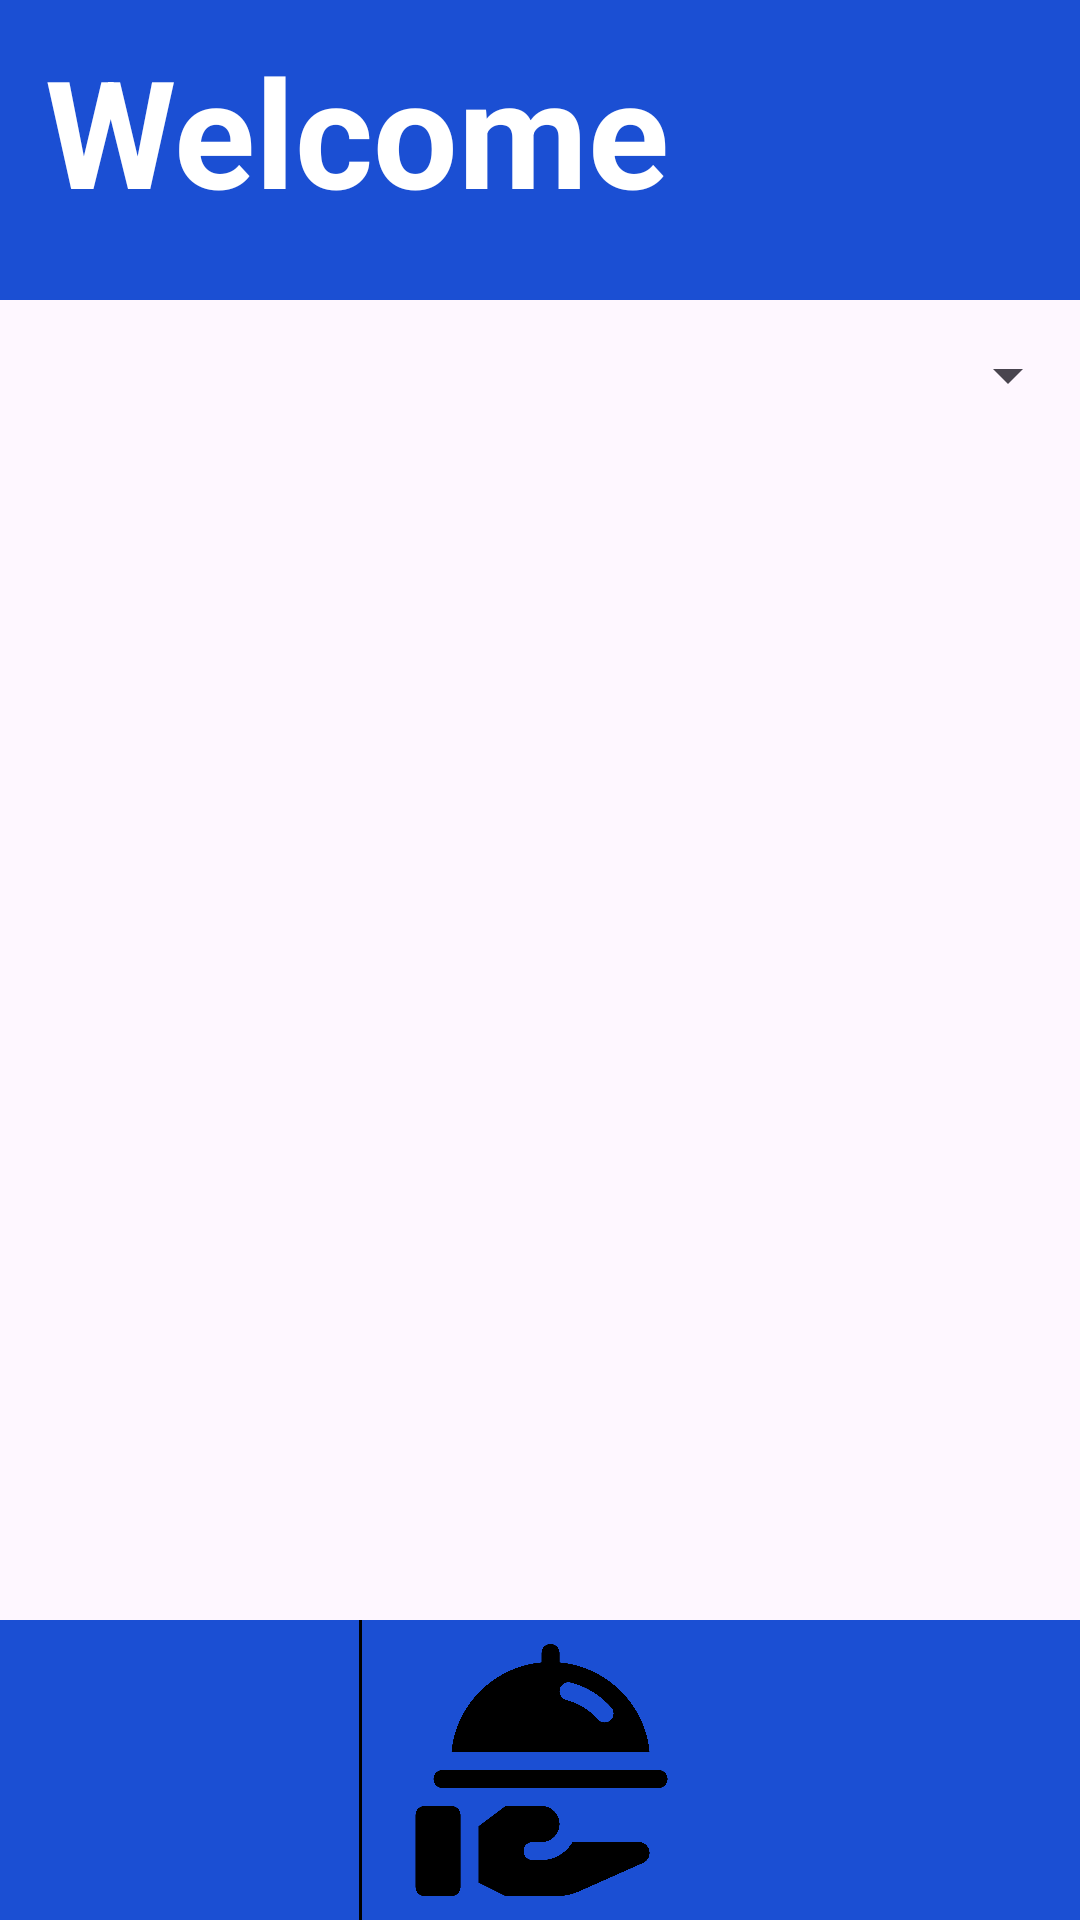

Icon bounding boxes for this 1080 x 1920 phone screenshot, format (x1, y1, x2, y2):
service: (415, 1644, 668, 1896)
